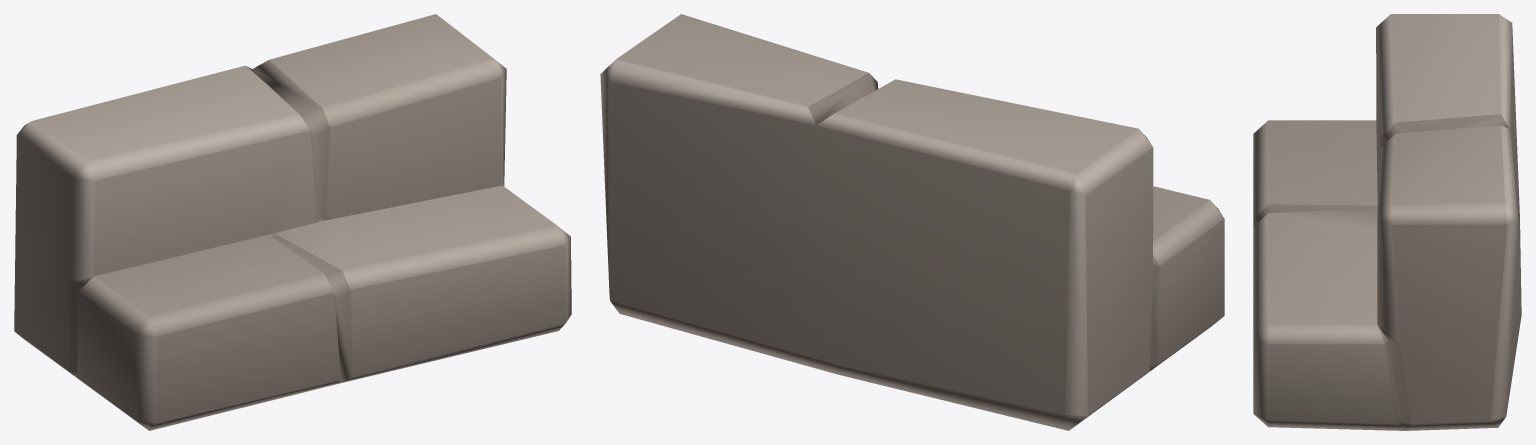
Rendered from elf_stairs_half_1_shade_2.fbx.
3 renders of one model, left to right at view 1: azimuth 30°, elevation 25°; view 2: azimuth 150°, elevation 25°; view 3: azimuth 270°, elevation 25°, orthographic. The views are drawn at different scales.
Visible parts, largest first — view 1: elf_stairs_half_1_shade_2; view 2: elf_stairs_half_1_shade_2; view 3: elf_stairs_half_1_shade_2.
Part boxes in pixels (<box>): elf_stairs_half_1_shade_2: <box>14,14,571,430</box>; elf_stairs_half_1_shade_2: <box>600,14,1224,430</box>; elf_stairs_half_1_shade_2: <box>1253,14,1521,430</box>.
Size of the model in its own units: 100 by 50.87 by 54.57.
